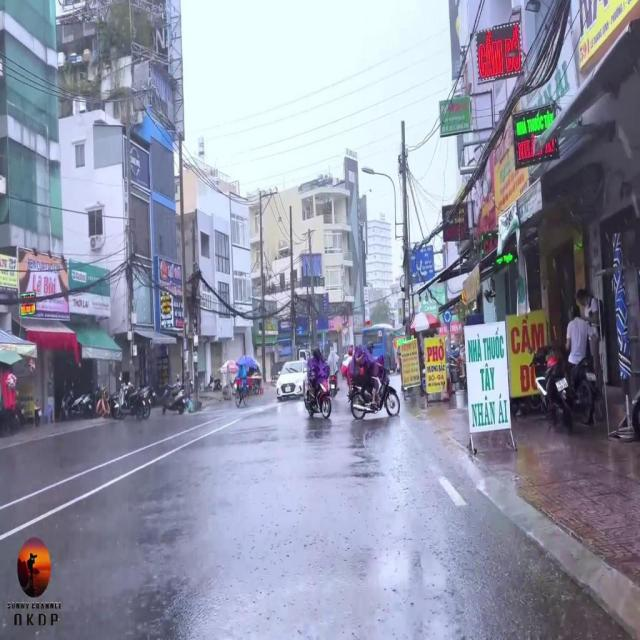noi_giao_nhau_chay_theo_vong: (443, 308, 452, 325)
